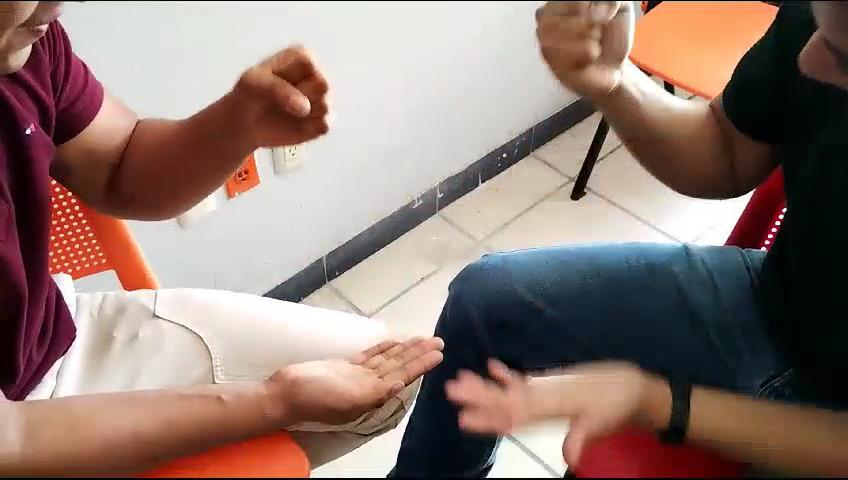Paper: (261, 309, 453, 430)
Stone: (523, 0, 652, 121), (223, 31, 336, 162)
